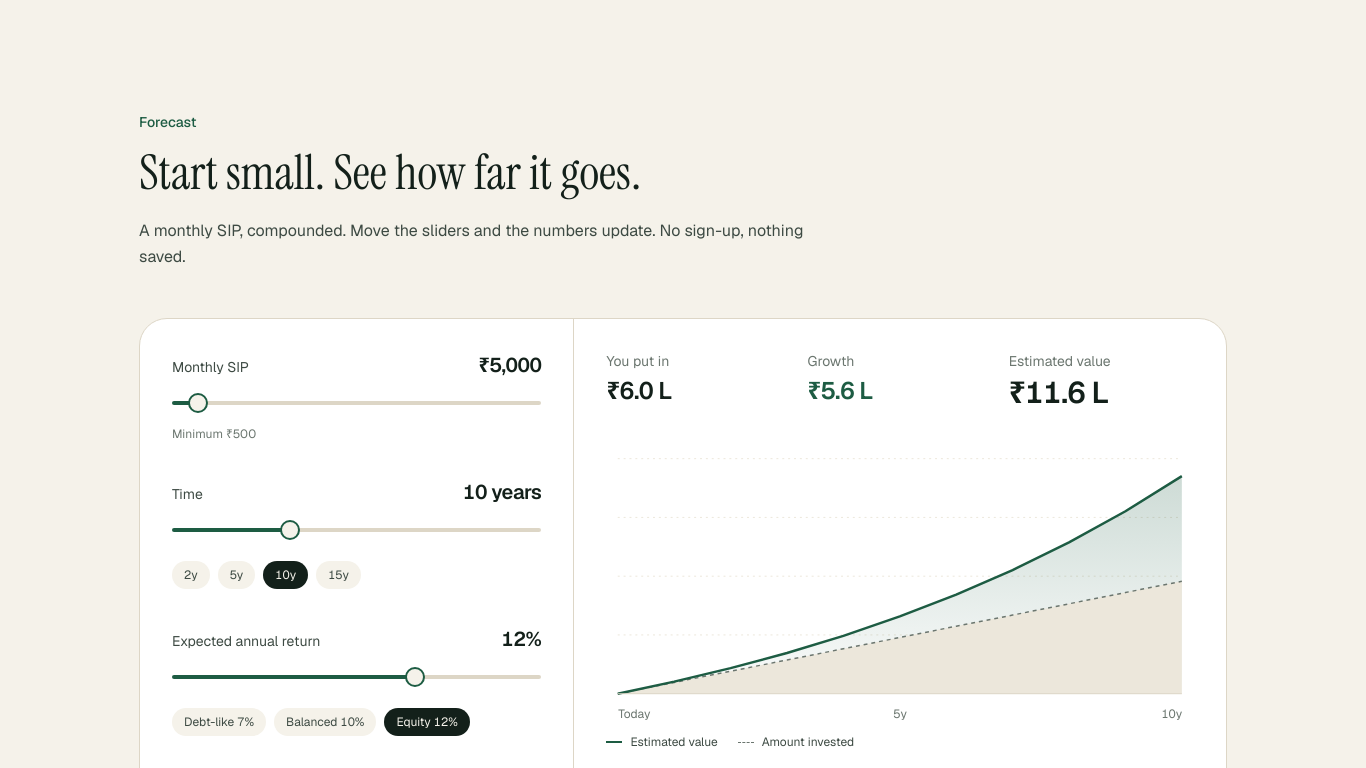
Forecast › recalculates when the sliders move
Step 1. Set the slider labelled "Monthly SIP" to "2000" → (185, 403), box [172,391,541,415]
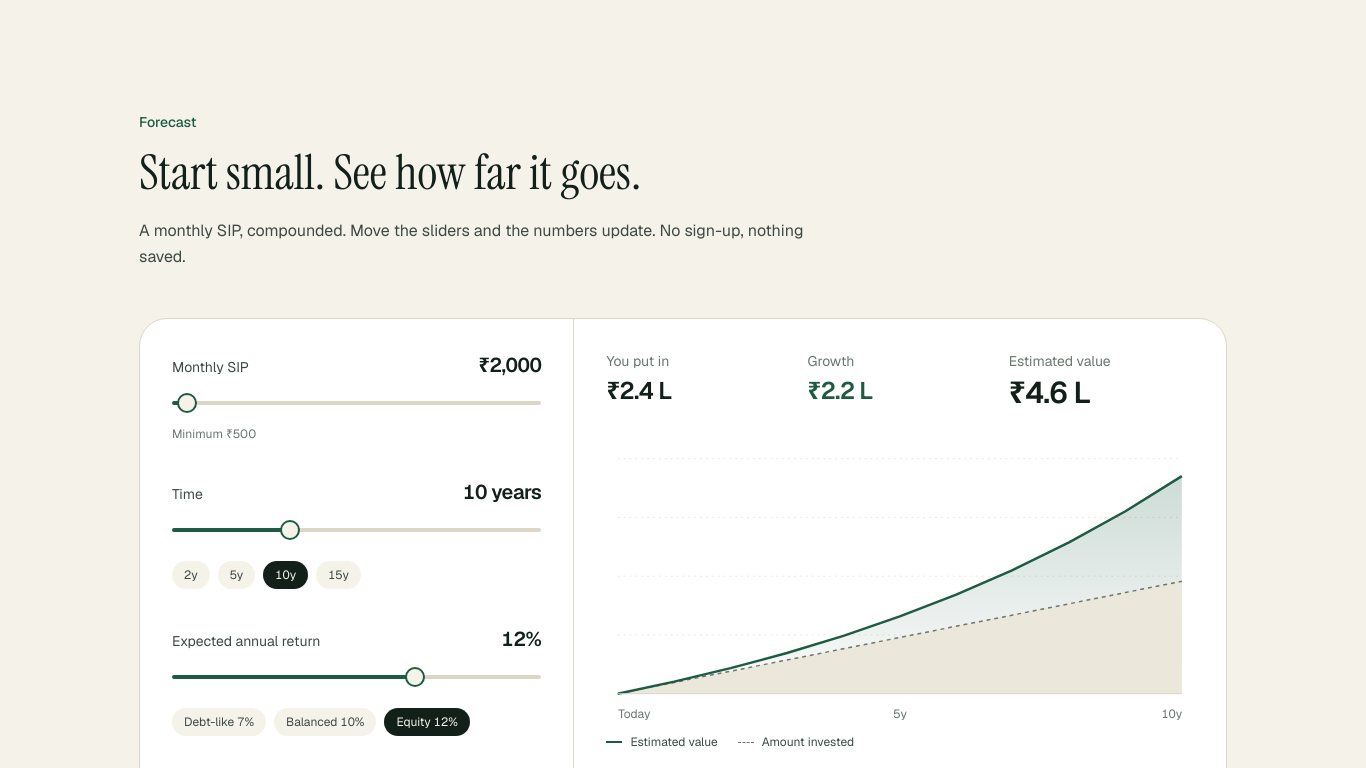
Check: the text "₹2,000" is shown, box [478,351,541,379]
